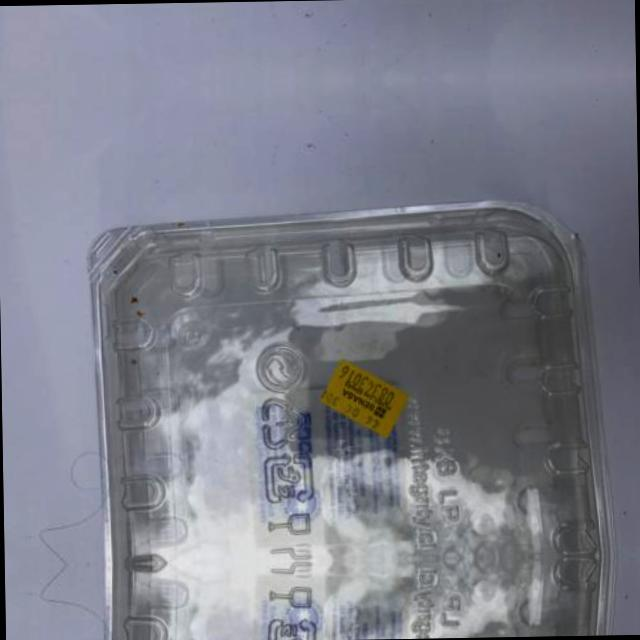Plastic: (35, 171, 640, 564), (41, 554, 640, 640)
